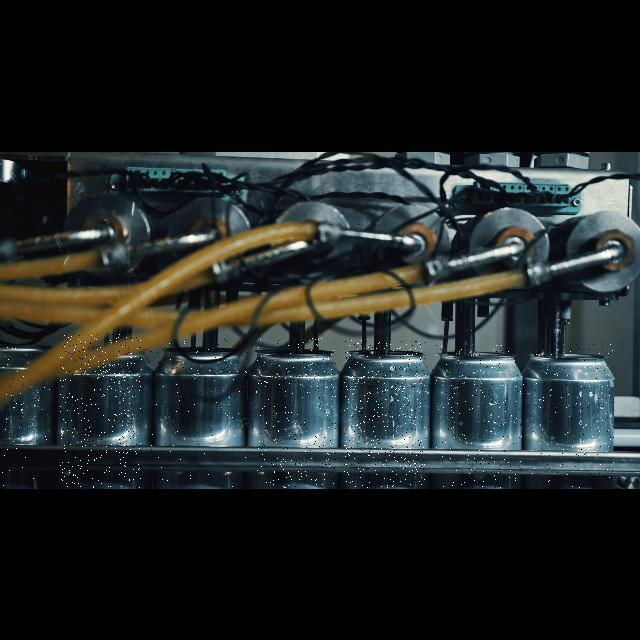empty: (150, 338, 248, 488), (436, 344, 524, 488), (60, 334, 142, 488), (344, 340, 426, 488), (256, 338, 336, 488), (532, 344, 614, 488), (2, 340, 52, 488)
